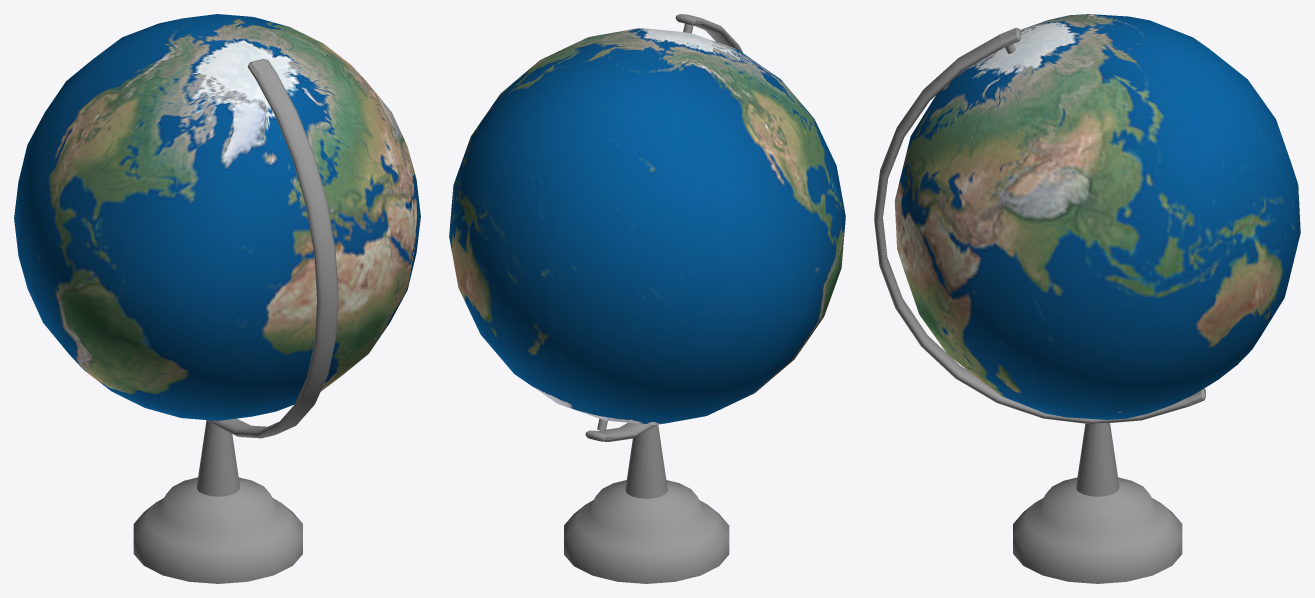
File: Globe01.FBX
3 renders of one model, left to right at view 1: azimuth 30°, elevation 25°; view 2: azimuth 150°, elevation 25°; view 3: azimuth 270°, elevation 25°, orthographic. The views are drawn at different scales.
Visible parts, largest first — view 1: GlobeHolder; view 2: GlobeHolder; view 3: GlobeHolder.
Part boxes in pixels (x1,y1,x2,y2): GlobeHolder: (14, 14, 420, 583); GlobeHolder: (449, 14, 845, 583); GlobeHolder: (874, 14, 1300, 583).
Bounding box in the file's own units: 35.25 × 49.29 × 36.88.
